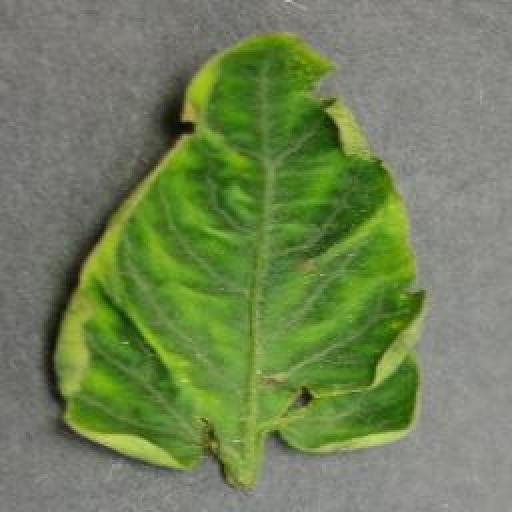Yellow Leaf Curl Virus: (53, 29, 427, 472)
